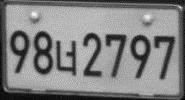2: (81, 32, 102, 78)
7: (152, 35, 177, 80), (104, 32, 127, 78)
8: (32, 29, 53, 75)
9: (128, 34, 152, 80), (9, 29, 30, 75)
너: (55, 38, 77, 76)
